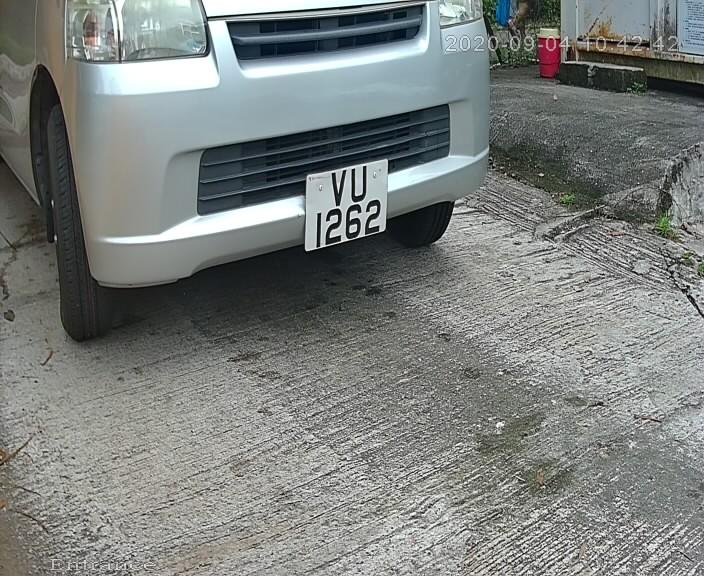License Plate: (293, 157, 397, 263)
